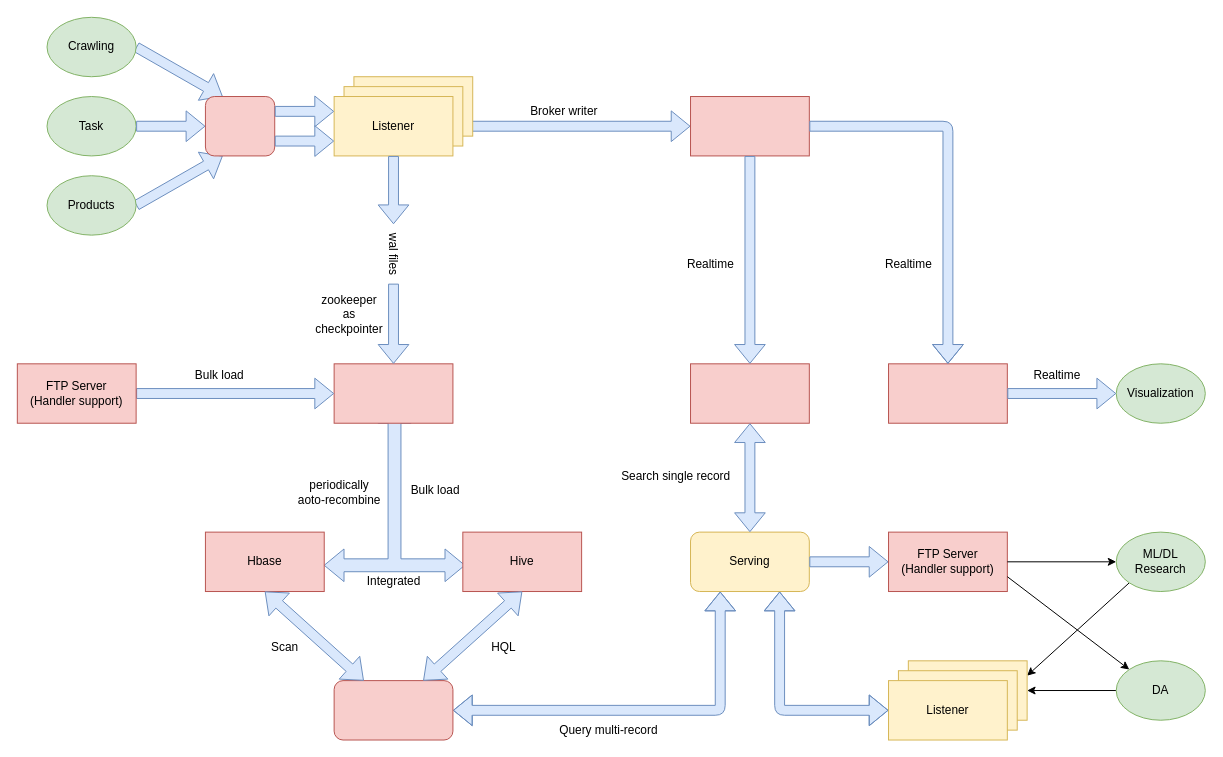
Some shapes in this 1223 by 757 pixel diagram are drawn without their labels. The centre of each missing label's shape, as x and y in pixels:
"Elasticsearch" goes at point 749,393.
"Grafana" goes at point 947,393.
"HDFS" goes at point 393,393.
"High Availability (Nginx)" goes at point 239,126.
"Kafka" goes at point 749,126.
"Query engine" goes at point 393,710.
